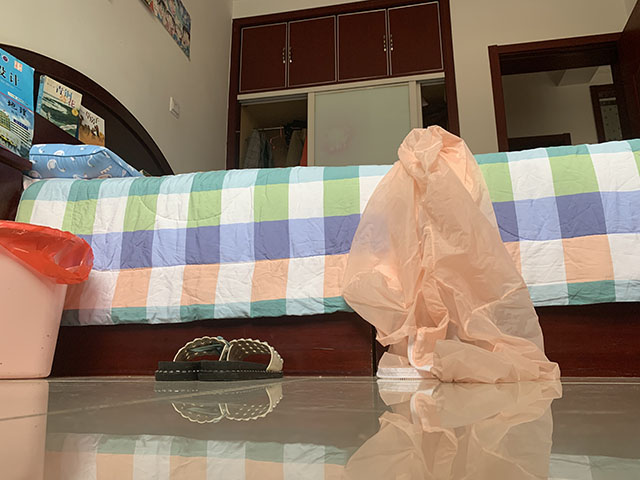bed: (1, 43, 640, 384)
slippers: (200, 338, 286, 383), (150, 338, 228, 381)
trashcan: (1, 218, 95, 380)
